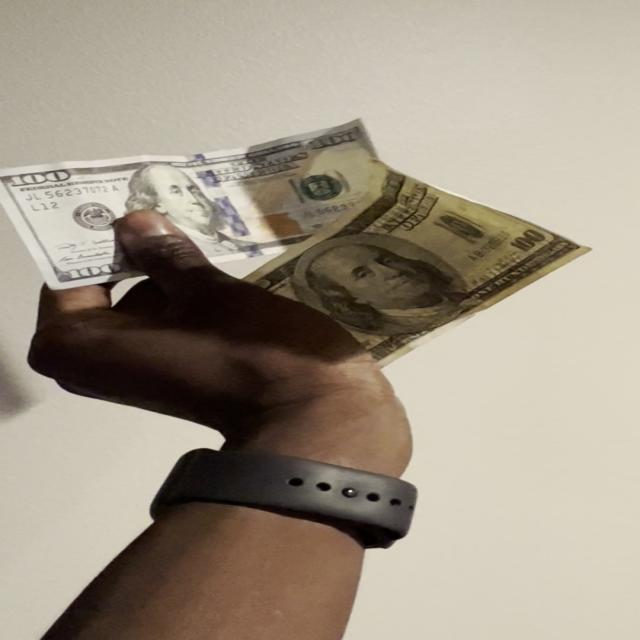hundred: (248, 166, 594, 368), (0, 116, 383, 287)
